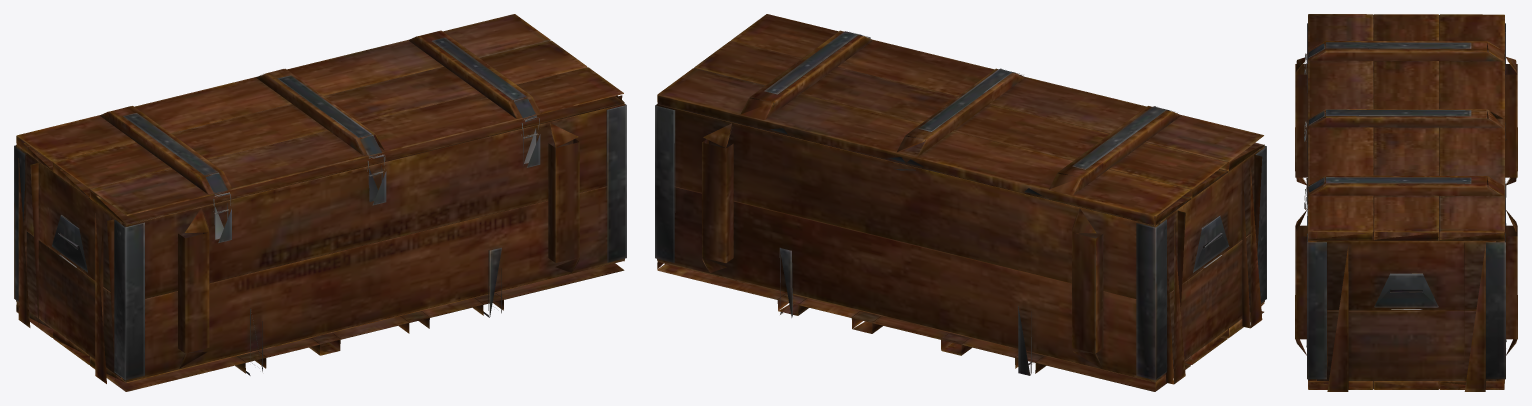
File: wooden_military_crate.gltf
The picture shows the model from 3 angles, left to right: view 1: azimuth 30°, elevation 25°; view 2: azimuth 150°, elevation 25°; view 3: azimuth 270°, elevation 25°; orthographic projection. The views are drawn at different scales.
Visible parts, largest first — view 1: wooden_military_crate, wooden_military_crate_lid; view 2: wooden_military_crate, wooden_military_crate_lid; view 3: wooden_military_crate_lid, wooden_military_crate.
Boxes of the visible parts, x1,y1,x2,y2 form: wooden_military_crate: (14,95,626,391); wooden_military_crate_lid: (16,14,624,224); wooden_military_crate: (655,104,1266,391); wooden_military_crate_lid: (657,14,1264,225); wooden_military_crate_lid: (1307,14,1506,240); wooden_military_crate: (1295,23,1517,391).
Bounding box in the file's own units: 1.24 × 0.4646 × 0.5198.
Materials: 1 (1 with a texture image).
